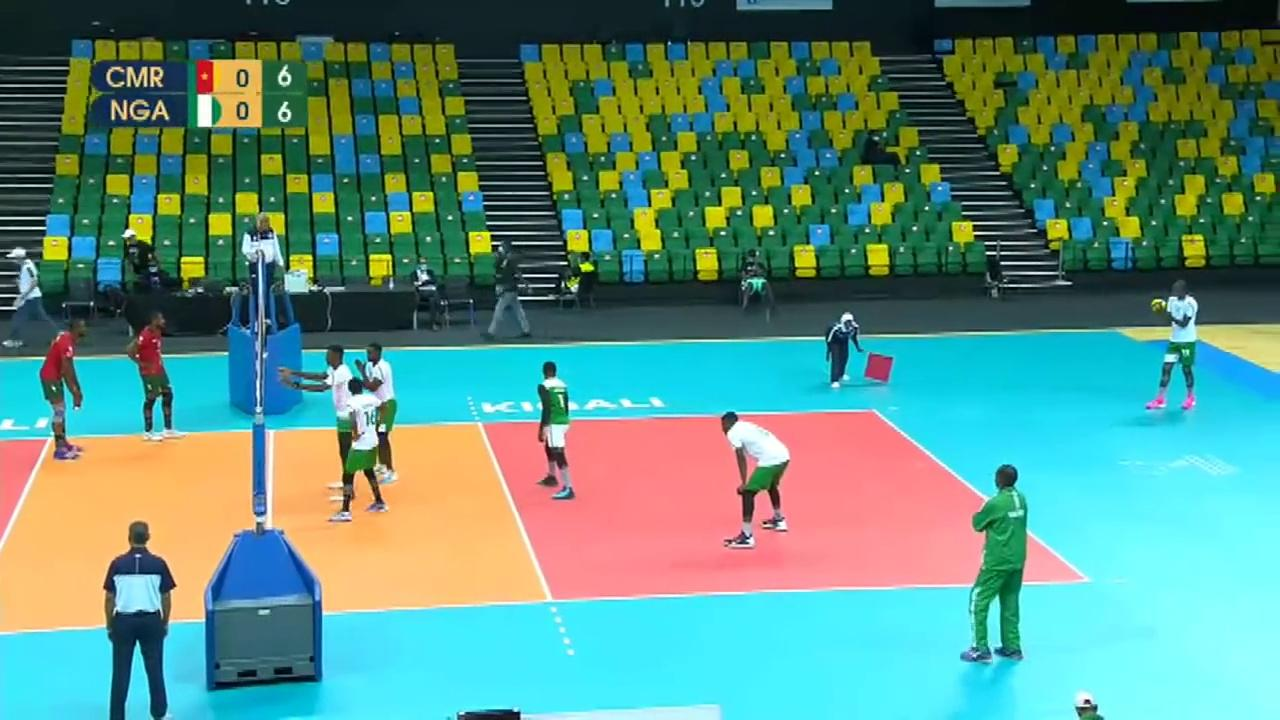player: (304, 344, 363, 496), (721, 416, 790, 545), (1144, 283, 1201, 410), (335, 379, 384, 522), (357, 340, 406, 483), (38, 321, 84, 458), (535, 362, 580, 499), (132, 311, 177, 438)
refree: (102, 518, 181, 720), (244, 213, 282, 322), (825, 310, 861, 390)
